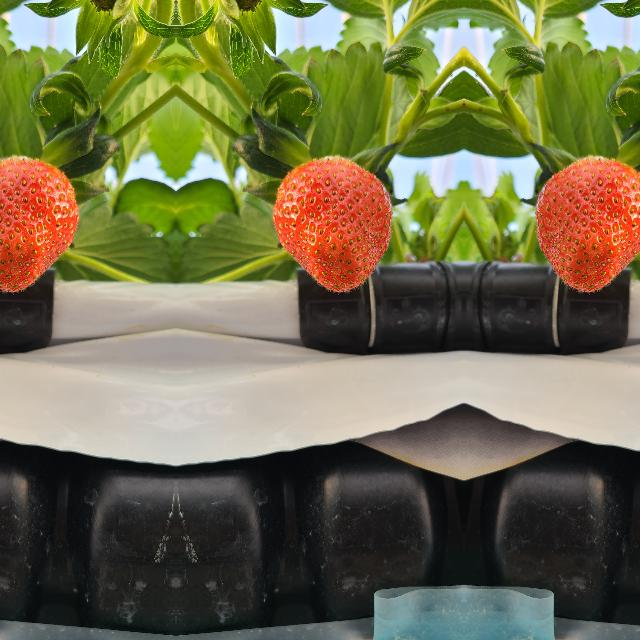Health_100: (271, 153, 393, 295), (533, 153, 640, 295), (0, 153, 79, 295)
